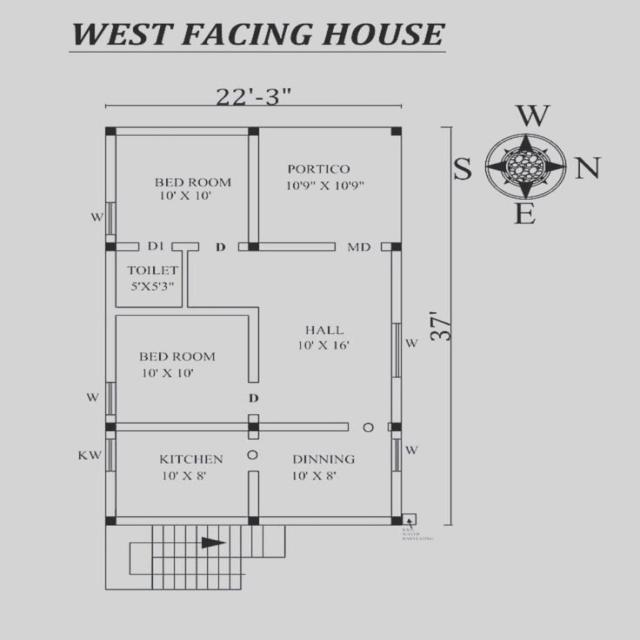column: (245, 514, 263, 528), (245, 125, 262, 138), (103, 514, 120, 527), (389, 125, 404, 138), (103, 421, 119, 433), (103, 241, 120, 252), (246, 241, 262, 252), (104, 125, 118, 137), (390, 515, 404, 527), (389, 241, 404, 252), (247, 421, 262, 432), (388, 422, 404, 432)
